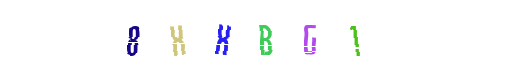1: (252, 0, 332, 80)
8: (93, 0, 173, 80)
B: (215, 0, 295, 80)
G: (236, 0, 316, 80)
X: (163, 0, 243, 80), (175, 0, 255, 80)
